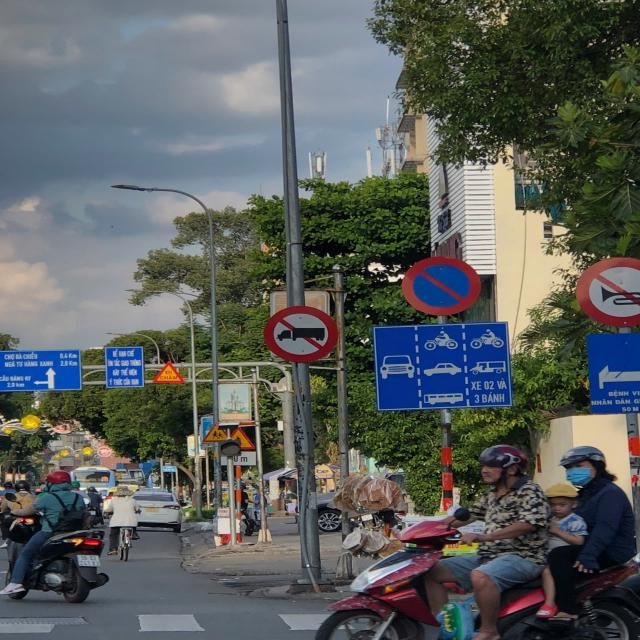Bien bao cam do xe: (391, 250, 492, 317)
Bien bao cam xe so-mi ro-mooc: (252, 295, 338, 369)
